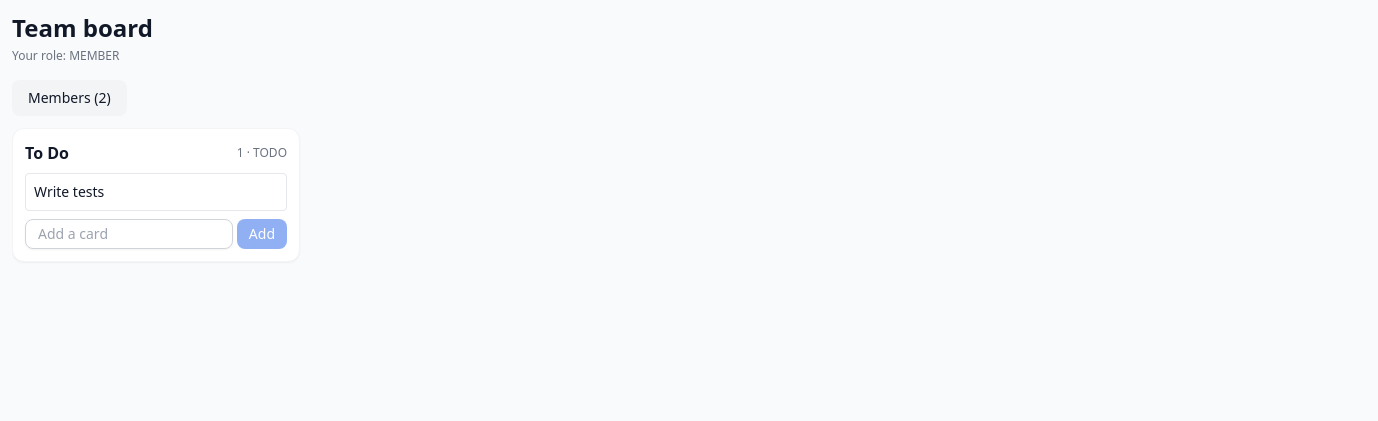
Test: Members panel › shows a Member the list without management controls
The width and height of the screenshot is (1378, 421).
Step 1. Click the button "Members (2)" → (69, 98), box [12, 80, 127, 116]
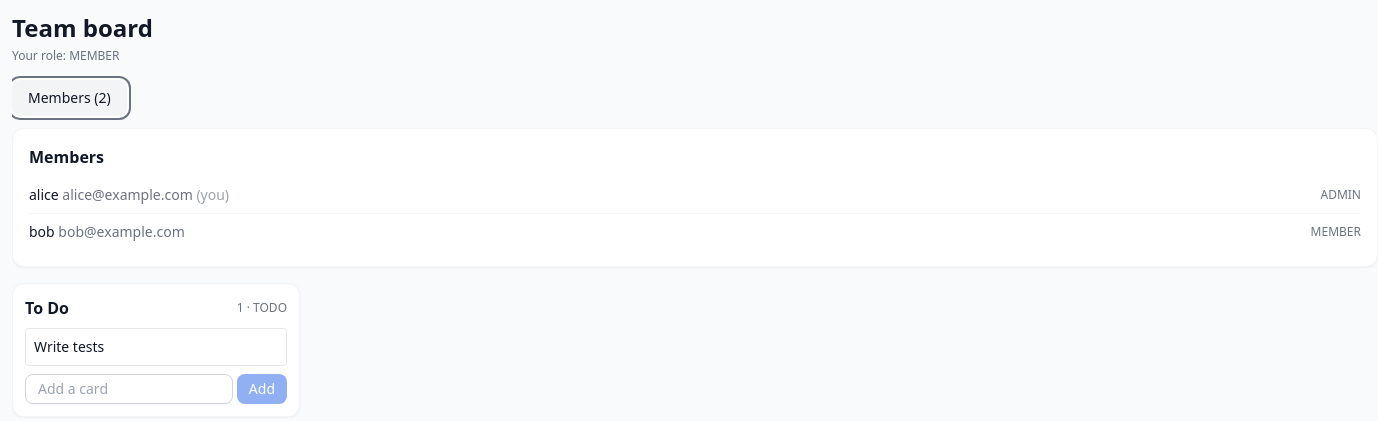
Now the text "bob" is shown, box [29, 222, 55, 241]
